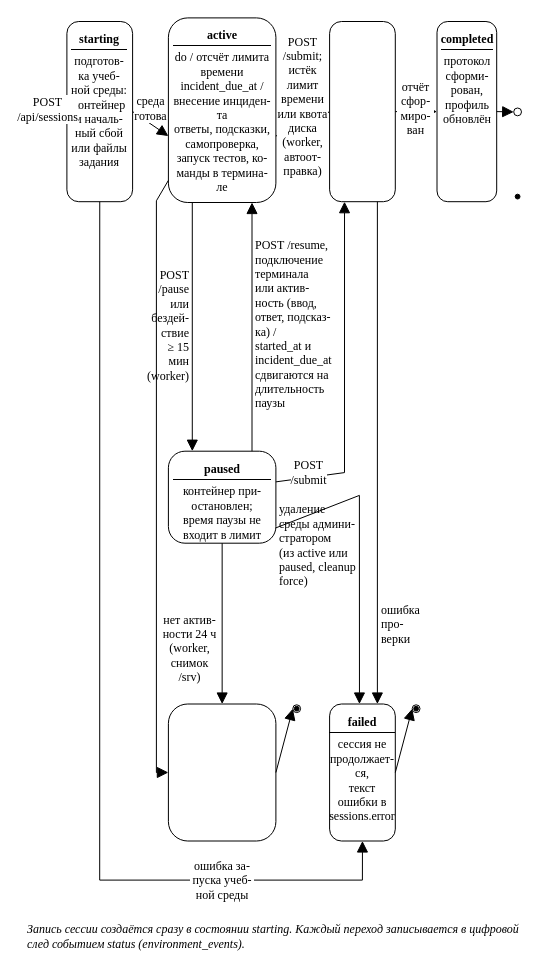
The diagram is 542 pixels wide and 973 high, and some of its shapes have lost their labels. The box of each missing label's shape, as (x1, y1, x2, y2) in pixels:
checking AssessmentAgent: про­вер­ки, балл, про­то­кол: (329, 20, 395, 202)
expired снимок /srv со­хранён, кон­тей­нер удалён: (167, 703, 276, 841)
